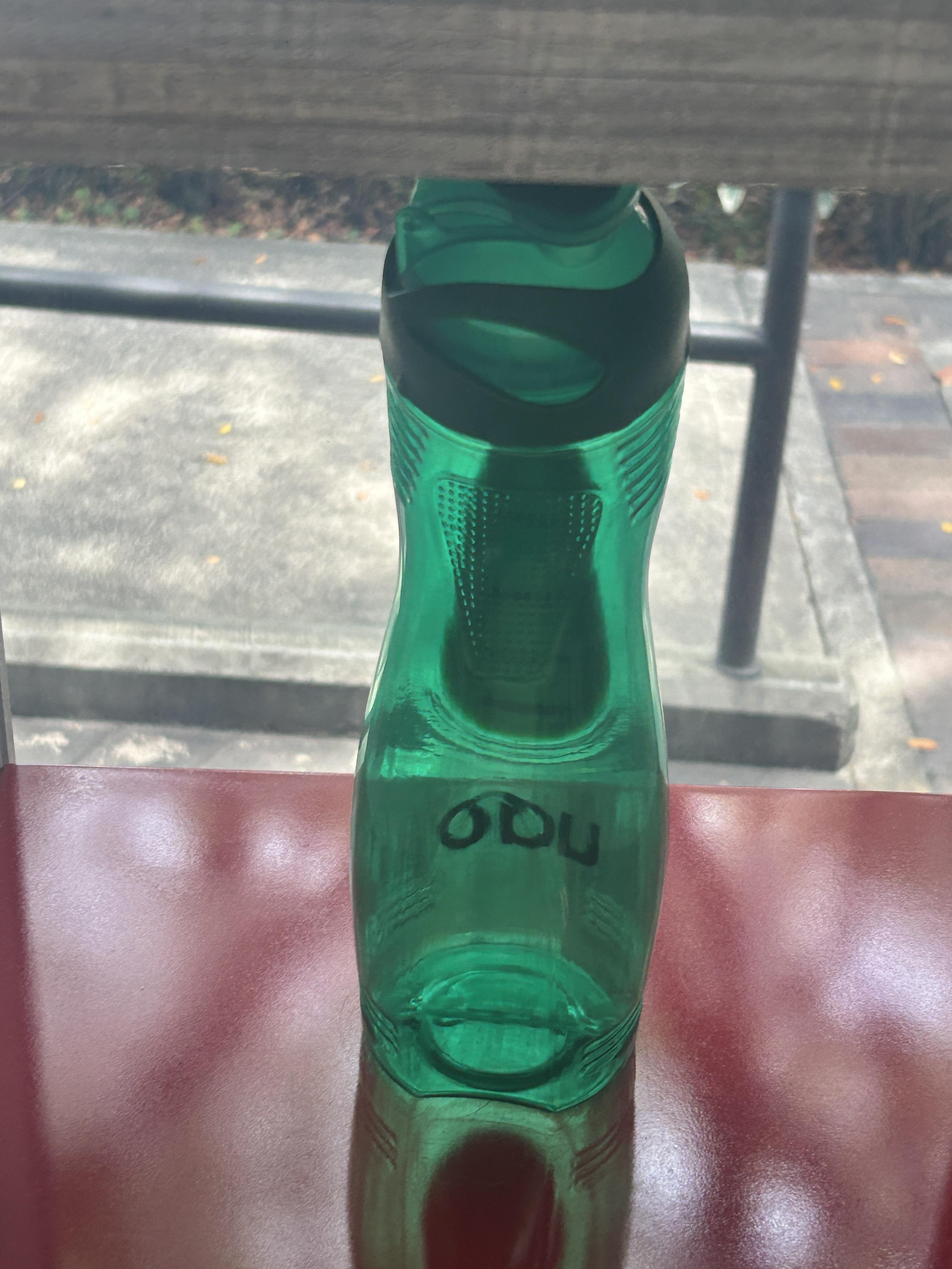termo: (352, 180, 689, 1109)
